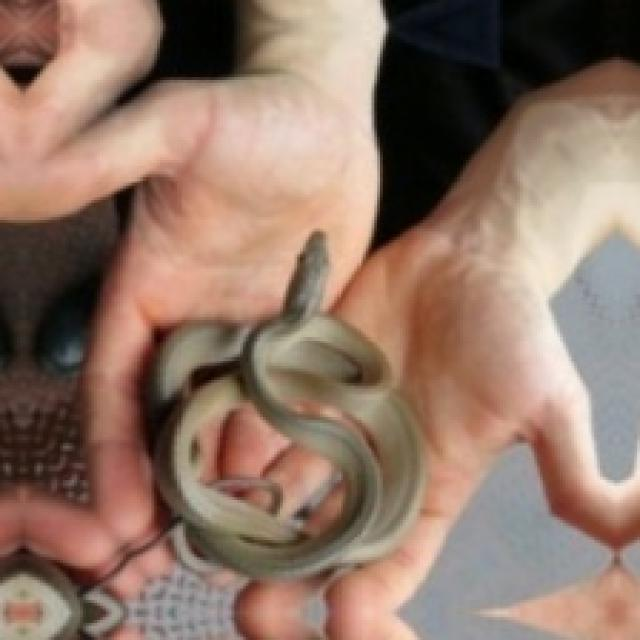red-tailed green ratsnake: (143, 231, 423, 577), (146, 231, 423, 574), (0, 560, 123, 637)
